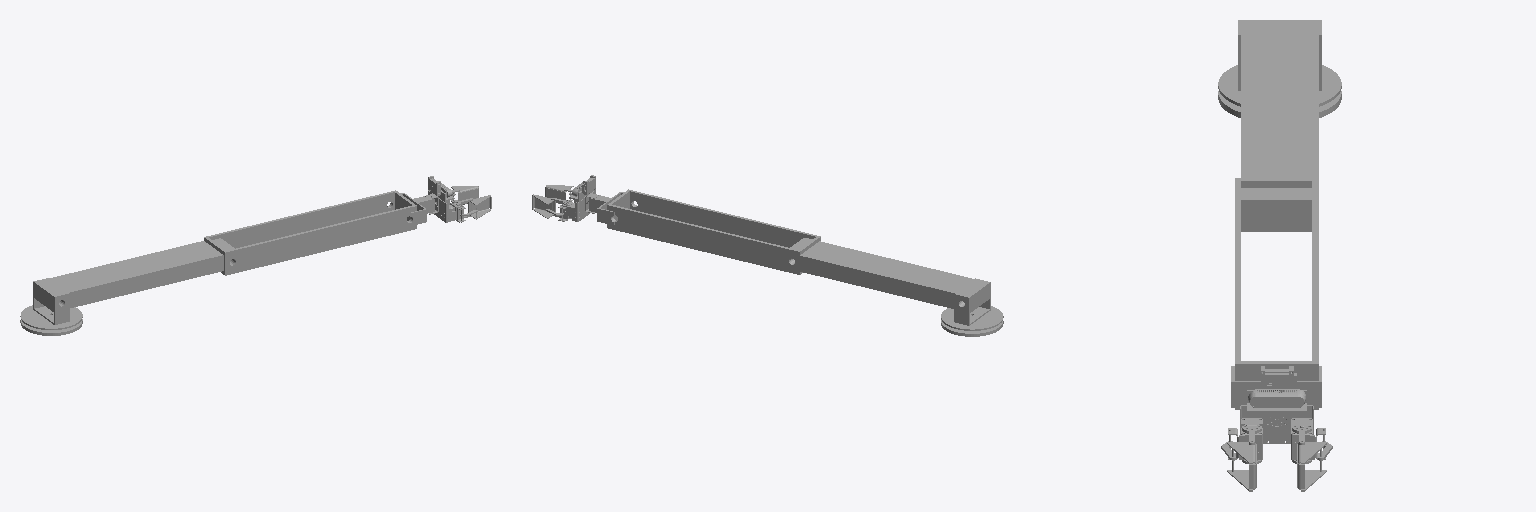
robot.urdf — simple_arm:
<?xml version="1.0" encoding="utf-8"?>
<!-- =================================================================================== -->
<!-- |    This document was autogenerated by xacro from simple_arm.xacro               | -->
<!-- |    EDITING THIS FILE BY HAND IS NOT RECOMMENDED                                 | -->
<!-- =================================================================================== -->
<robot name="simple_arm">
  <material name="silver">
    <color rgba="0.700 0.700 0.700 1.000"/>
  </material>
  <transmission name="1_tran">
    <type>transmission_interface/SimpleTransmission</type>
    <joint name="1">
      <hardwareInterface>hardware_interface/EffortJointInterface</hardwareInterface>
    </joint>
    <actuator name="1_actr">
      <hardwareInterface>hardware_interface/EffortJointInterface</hardwareInterface>
      <mechanicalReduction>1</mechanicalReduction>
    </actuator>
  </transmission>
  <transmission name="2_tran">
    <type>transmission_interface/SimpleTransmission</type>
    <joint name="2">
      <hardwareInterface>hardware_interface/EffortJointInterface</hardwareInterface>
    </joint>
    <actuator name="2_actr">
      <hardwareInterface>hardware_interface/EffortJointInterface</hardwareInterface>
      <mechanicalReduction>1</mechanicalReduction>
    </actuator>
  </transmission>
  <transmission name="3_tran">
    <type>transmission_interface/SimpleTransmission</type>
    <joint name="3">
      <hardwareInterface>hardware_interface/EffortJointInterface</hardwareInterface>
    </joint>
    <actuator name="3_actr">
      <hardwareInterface>hardware_interface/EffortJointInterface</hardwareInterface>
      <mechanicalReduction>1</mechanicalReduction>
    </actuator>
  </transmission>
  <transmission name="4_tran">
    <type>transmission_interface/SimpleTransmission</type>
    <joint name="4">
      <hardwareInterface>hardware_interface/EffortJointInterface</hardwareInterface>
    </joint>
    <actuator name="4_actr">
      <hardwareInterface>hardware_interface/EffortJointInterface</hardwareInterface>
      <mechanicalReduction>1</mechanicalReduction>
    </actuator>
  </transmission>
  <transmission name="5_tran">
    <type>transmission_interface/SimpleTransmission</type>
    <joint name="5">
      <hardwareInterface>hardware_interface/EffortJointInterface</hardwareInterface>
    </joint>
    <actuator name="5_actr">
      <hardwareInterface>hardware_interface/EffortJointInterface</hardwareInterface>
      <mechanicalReduction>1</mechanicalReduction>
    </actuator>
  </transmission>
  <transmission name="6_tran">
    <type>transmission_interface/SimpleTransmission</type>
    <joint name="6">
      <hardwareInterface>hardware_interface/EffortJointInterface</hardwareInterface>
    </joint>
    <actuator name="6_actr">
      <hardwareInterface>hardware_interface/EffortJointInterface</hardwareInterface>
      <mechanicalReduction>1</mechanicalReduction>
    </actuator>
  </transmission>
  <transmission name="7_tran">
    <type>transmission_interface/SimpleTransmission</type>
    <joint name="7">
      <hardwareInterface>hardware_interface/EffortJointInterface</hardwareInterface>
    </joint>
    <actuator name="7_actr">
      <hardwareInterface>hardware_interface/EffortJointInterface</hardwareInterface>
      <mechanicalReduction>1</mechanicalReduction>
    </actuator>
  </transmission>
  <transmission name="8_tran">
    <type>transmission_interface/SimpleTransmission</type>
    <joint name="8">
      <hardwareInterface>hardware_interface/EffortJointInterface</hardwareInterface>
    </joint>
    <actuator name="8_actr">
      <hardwareInterface>hardware_interface/EffortJointInterface</hardwareInterface>
      <mechanicalReduction>1</mechanicalReduction>
    </actuator>
  </transmission>
  <gazebo>
    <plugin filename="libgazebo_ros_control.so" name="control"/>
  </gazebo>
  <gazebo reference="base_link">
    <material>Gazebo/Silver</material>
    <mu1>0.2</mu1>
    <mu2>0.2</mu2>
    <selfCollide>true</selfCollide>
    <gravity>true</gravity>
  </gazebo>
  <gazebo reference="1link_easy_1">
    <material>Gazebo/Silver</material>
    <mu1>0.2</mu1>
    <mu2>0.2</mu2>
    <selfCollide>true</selfCollide>
  </gazebo>
  <gazebo reference="2link_easy_origin_1">
    <material>Gazebo/Silver</material>
    <mu1>0.2</mu1>
    <mu2>0.2</mu2>
    <selfCollide>true</selfCollide>
  </gazebo>
  <gazebo reference="3link_easy_origin_1">
    <material>Gazebo/Silver</material>
    <mu1>0.2</mu1>
    <mu2>0.2</mu2>
    <selfCollide>true</selfCollide>
  </gazebo>
  <gazebo reference="hand_link_origin_1">
    <material>Gazebo/Silver</material>
    <mu1>0.2</mu1>
    <mu2>0.2</mu2>
    <selfCollide>true</selfCollide>
  </gazebo>
  <gazebo reference="hands_1">
    <material>Gazebo/Silver</material>
    <mu1>0.2</mu1>
    <mu2>0.2</mu2>
    <selfCollide>true</selfCollide>
  </gazebo>
  <gazebo reference="finger_r_1">
    <material>Gazebo/Silver</material>
    <mu1>0.2</mu1>
    <mu2>0.2</mu2>
    <selfCollide>true</selfCollide>
  </gazebo>
  <gazebo reference="finger_1">
    <material>Gazebo/Silver</material>
    <mu1>0.2</mu1>
    <mu2>0.2</mu2>
    <selfCollide>true</selfCollide>
  </gazebo>
  <gazebo reference="0link_easy_1">
    <material>Gazebo/Silver</material>
    <mu1>0.2</mu1>
    <mu2>0.2</mu2>
    <selfCollide>true</selfCollide>
  </gazebo>
  <link name="base_link">
    <inertial>
      <origin rpy="0 0 0" xyz="1.4475057750305075e-15 1.6083397500338972e-17 0.005"/>
      <mass value="0.28274333882308134"/>
      <inertia ixx="0.000642" ixy="0.0" ixz="0.0" iyy="0.000642" iyz="0.0" izz="0.001279"/>
    </inertial>
    <visual>
      <origin rpy="0 0 0" xyz="0 0 0"/>
      <geometry>
        <mesh filename="package://simple_arm_description/meshes/base_link.stl" scale="0.001 0.001 0.001"/>
      </geometry>
      <material name="silver"/>
    </visual>
    <collision>
      <origin rpy="0 0 0" xyz="0 0 0"/>
      <geometry>
        <mesh filename="package://simple_arm_description/meshes/base_link.stl" scale="0.001 0.001 0.001"/>
      </geometry>
    </collision>
  </link>
  <link name="1link_easy_1">
    <inertial>
      <origin rpy="0 0 0" xyz="0.2994999999999998 0.059999999999999686 6.195756045712653e-08"/>
      <mass value="4.140208149339731"/>
      <inertia ixx="0.005994" ixy="0.0" ixz="0.0" iyy="0.1432" iyz="0.0" izz="0.147142"/>
    </inertial>
    <visual>
      <origin rpy="0 0 0" xyz="0.0 0.06 -0.092694"/>
      <geometry>
        <mesh filename="package://simple_arm_description/meshes/1link_easy_1.stl" scale="0.001 0.001 0.001"/>
      </geometry>
      <material name="silver"/>
    </visual>
    <collision>
      <origin rpy="0 0 0" xyz="0.0 0.06 -0.092694"/>
      <geometry>
        <mesh filename="package://simple_arm_description/meshes/1link_easy_1.stl" scale="0.001 0.001 0.001"/>
      </geometry>
    </collision>
  </link>
  <link name="2link_easy_origin_1">
    <inertial>
      <origin rpy="0 0 0" xyz="0.3115000000000001 0.05499999999999975 6.195756020732635e-08"/>
      <mass value="1.2125146915566287"/>
      <inertia ixx="0.004551" ixy="-0.0" ixz="-0.0" iyy="0.058571" iyz="0.0" izz="0.061878"/>
    </inertial>
    <visual>
      <origin rpy="0 0 0" xyz="-0.599 0.06 -0.092694"/>
      <geometry>
        <mesh filename="package://simple_arm_description/meshes/2link_easy_origin_1.stl" scale="0.001 0.001 0.001"/>
      </geometry>
      <material name="silver"/>
    </visual>
    <collision>
      <origin rpy="0 0 0" xyz="-0.599 0.06 -0.092694"/>
      <geometry>
        <mesh filename="package://simple_arm_description/meshes/2link_easy_origin_1.stl" scale="0.001 0.001 0.001"/>
      </geometry>
    </collision>
  </link>
  <link name="3link_easy_origin_1">
    <inertial>
      <origin rpy="0 0 0" xyz="0.07155327949765633 -0.0649999999999868 6.195756005467068e-08"/>
      <mass value="0.13898249570993693"/>
      <inertia ixx="0.00018" ixy="-0.0" ixz="-0.0" iyy="0.000122" iyz="-0.0" izz="0.000256"/>
    </inertial>
    <visual>
      <origin rpy="0 0 0" xyz="-1.222 -0.06 -0.092694"/>
      <geometry>
        <mesh filename="package://simple_arm_description/meshes/3link_easy_origin_1.stl" scale="0.001 0.001 0.001"/>
      </geometry>
      <material name="silver"/>
    </visual>
    <collision>
      <origin rpy="0 0 0" xyz="-1.222 -0.06 -0.092694"/>
      <geometry>
        <mesh filename="package://simple_arm_description/meshes/3link_easy_origin_1.stl" scale="0.001 0.001 0.001"/>
      </geometry>
    </collision>
  </link>
  <link name="hand_link_origin_1">
    <inertial>
      <origin rpy="0 0 0" xyz="0.020978724283175376 0.0005364664009915544 -0.024499938042403926"/>
      <mass value="0.0055574247779607835"/>
      <inertia ixx="3e-06" ixy="0.0" ixz="-0.0" iyy="3e-06" iyz="0.0" izz="1e-06"/>
    </inertial>
    <visual>
      <origin rpy="0 0 0" xyz="-1.32525 0.005 -0.114694"/>
      <geometry>
        <mesh filename="package://simple_arm_description/meshes/hand_link_origin_1.stl" scale="0.001 0.001 0.001"/>
      </geometry>
      <material name="silver"/>
    </visual>
    <collision>
      <origin rpy="0 0 0" xyz="-1.32525 0.005 -0.114694"/>
      <geometry>
        <mesh filename="package://simple_arm_description/meshes/hand_link_origin_1.stl" scale="0.001 0.001 0.001"/>
      </geometry>
    </collision>
  </link>
  <link name="hands_1">
    <inertial>
      <origin rpy="0 0 0" xyz="0.022881928769991955 0.00025674546255615577 -0.0019451195322229137"/>
      <mass value="0.2695940547225943"/>
      <inertia ixx="0.000629" ixy="1e-06" ixz="8.8e-05" iyy="0.000393" iyz="-8e-06" izz="0.000437"/>
    </inertial>
    <visual>
      <origin rpy="0 0 0" xyz="-1.35525 0.0045 -0.090194"/>
      <geometry>
        <mesh filename="package://simple_arm_description/meshes/hands_1.stl" scale="0.001 0.001 0.001"/>
      </geometry>
      <material name="silver"/>
    </visual>
    <collision>
      <origin rpy="0 0 0" xyz="-1.35525 0.0045 -0.090194"/>
      <geometry>
        <mesh filename="package://simple_arm_description/meshes/hands_1.stl" scale="0.001 0.001 0.001"/>
      </geometry>
    </collision>
  </link>
  <link name="finger_r_1">
    <inertial>
      <origin rpy="0 0 0" xyz="0.05734260879402564 -0.006123273409037622 -0.024501680214445265"/>
      <mass value="0.034487386604343355"/>
      <inertia ixx="1.9e-05" ixy="-9e-06" ixz="-0.0" iyy="5.9e-05" iyz="-0.0" izz="5.4e-05"/>
    </inertial>
    <visual>
      <origin rpy="0 0 0" xyz="-1.402 0.043 -0.091944"/>
      <geometry>
        <mesh filename="package://simple_arm_description/meshes/finger_r_1.stl" scale="0.001 0.001 0.001"/>
      </geometry>
      <material name="silver"/>
    </visual>
    <collision>
      <origin rpy="0 0 0" xyz="-1.402 0.043 -0.091944"/>
      <geometry>
        <mesh filename="package://simple_arm_description/meshes/finger_r_1.stl" scale="0.001 0.001 0.001"/>
      </geometry>
    </collision>
  </link>
  <link name="finger_1">
    <inertial>
      <origin rpy="0 0 0" xyz="0.05734260879402542 0.006123273409052318 -0.024498195870436695"/>
      <mass value="0.0344873866043503"/>
      <inertia ixx="1.9e-05" ixy="9e-06" ixz="0.0" iyy="5.9e-05" iyz="-0.0" izz="5.4e-05"/>
    </inertial>
    <visual>
      <origin rpy="0 0 0" xyz="-1.402 -0.034 -0.091944"/>
      <geometry>
        <mesh filename="package://simple_arm_description/meshes/finger_1.stl" scale="0.001 0.001 0.001"/>
      </geometry>
      <material name="silver"/>
    </visual>
    <collision>
      <origin rpy="0 0 0" xyz="-1.402 -0.034 -0.091944"/>
      <geometry>
        <mesh filename="package://simple_arm_description/meshes/finger_1.stl" scale="0.001 0.001 0.001"/>
      </geometry>
    </collision>
  </link>
  <link name="0link_easy_1">
    <inertial>
      <origin rpy="0 0 0" xyz="2.0058434080372222e-14 4.148348331511898e-15 0.02331806213914922"/>
      <mass value="0.2208776432189984"/>
      <inertia ixx="0.000666" ixy="0.0" ixz="-0.0" iyy="0.000462" iyz="0.0" izz="0.000884"/>
    </inertial>
    <visual>
      <origin rpy="0 0 0" xyz="-0.0 -0.0 -0.01"/>
      <geometry>
        <mesh filename="package://simple_arm_description/meshes/0link_easy_1.stl" scale="0.001 0.001 0.001"/>
      </geometry>
      <material name="silver"/>
    </visual>
    <collision>
      <origin rpy="0 0 0" xyz="-0.0 -0.0 -0.01"/>
      <geometry>
        <mesh filename="package://simple_arm_description/meshes/0link_easy_1.stl" scale="0.001 0.001 0.001"/>
      </geometry>
    </collision>
  </link>
  <joint name="1" type="continuous">
    <origin rpy="0 0 0" xyz="-0.0 -0.06 0.082694"/>
    <parent link="0link_easy_1"/>
    <child link="1link_easy_1"/>
    <axis xyz="-0.0 -1.0 0.0"/>
  </joint>
  <joint name="2" type="continuous">
    <origin rpy="0 0 0" xyz="0.599 0.0 0.0"/>
    <parent link="1link_easy_1"/>
    <child link="2link_easy_origin_1"/>
    <axis xyz="0.0 1.0 0.0"/>
  </joint>
  <joint name="3" type="continuous">
    <origin rpy="0 0 0" xyz="0.623 0.12 0.0"/>
    <parent link="2link_easy_origin_1"/>
    <child link="3link_easy_origin_1"/>
    <axis xyz="0.0 -1.0 -0.0"/>
  </joint>
  <joint name="4" type="continuous">
    <origin rpy="0 0 0" xyz="0.10325 -0.065 0.022"/>
    <parent link="3link_easy_origin_1"/>
    <child link="hand_link_origin_1"/>
    <axis xyz="-0.0 -0.0 -1.0"/>
  </joint>
  <joint name="5" type="continuous">
    <origin rpy="0 0 0" xyz="0.03 0.0005 -0.0245"/>
    <parent link="hand_link_origin_1"/>
    <child link="hands_1"/>
    <axis xyz="-1.0 -0.0 -0.0"/>
  </joint>
  <joint name="6" type="continuous">
    <origin rpy="0 0 0" xyz="0.04675 -0.0385 0.00175"/>
    <parent link="hands_1"/>
    <child link="finger_r_1"/>
    <axis xyz="0.0 -0.0 -1.0"/>
  </joint>
  <joint name="7" type="continuous">
    <origin rpy="0 0 0" xyz="0.04675 0.0385 0.00175"/>
    <parent link="hands_1"/>
    <child link="finger_1"/>
    <axis xyz="-0.0 0.0 1.0"/>
  </joint>
  <joint name="8" type="continuous">
    <origin rpy="0 0 0" xyz="0.0 0.0 0.01"/>
    <parent link="base_link"/>
    <child link="0link_easy_1"/>
    <axis xyz="0.0 0.0 -1.0"/>
  </joint>
</robot>

--- Render facts (derived) ---
3 views of the same robot in one strip: view 1: azimuth 30°, elevation 25°; view 2: azimuth 150°, elevation 25°; view 3: azimuth 270°, elevation 25° (orthographic).
Robot: simple_arm — 9 links, 8 joints (8 continuous); root link base_link; default pose: all joints at 0.
Links seen in each view (by area): view 1: 2link_easy_origin_1, 1link_easy_1, 0link_easy_1, hands_1, finger_r_1, 3link_easy_origin_1; view 2: 2link_easy_origin_1, 1link_easy_1, 0link_easy_1, hands_1, finger_1, 3link_easy_origin_1; view 3: 1link_easy_1, 2link_easy_origin_1, hands_1, 0link_easy_1, finger_r_1, finger_1, 3link_easy_origin_1, base_link.
Boxes of the visible links, x1,y1,x2,y2 form: 2link_easy_origin_1: (204, 190, 416, 275); 1link_easy_1: (34, 238, 234, 311); 0link_easy_1: (20, 278, 82, 329); hands_1: (428, 176, 462, 222); finger_r_1: (453, 195, 491, 222); 3link_easy_origin_1: (387, 193, 434, 225); 2link_easy_origin_1: (607, 189, 820, 274); 1link_easy_1: (784, 238, 989, 312); 0link_easy_1: (941, 278, 1003, 330); hands_1: (562, 175, 595, 221); finger_1: (532, 194, 570, 221); 3link_easy_origin_1: (589, 192, 636, 225); 1link_easy_1: (1241, 20, 1318, 231); 2link_easy_origin_1: (1235, 178, 1318, 409); hands_1: (1240, 366, 1313, 460); 0link_easy_1: (1218, 20, 1341, 106); finger_r_1: (1221, 425, 1261, 491); finger_1: (1292, 425, 1332, 491); 3link_easy_origin_1: (1231, 366, 1321, 423); base_link: (1218, 91, 1341, 117).
Bounding box of the posed robot: 1.62 × 0.19 × 0.1713 m (x, y, z).
Meshes: 9 distinct files referenced, 9 mesh visuals loaded (9 binary STL).
